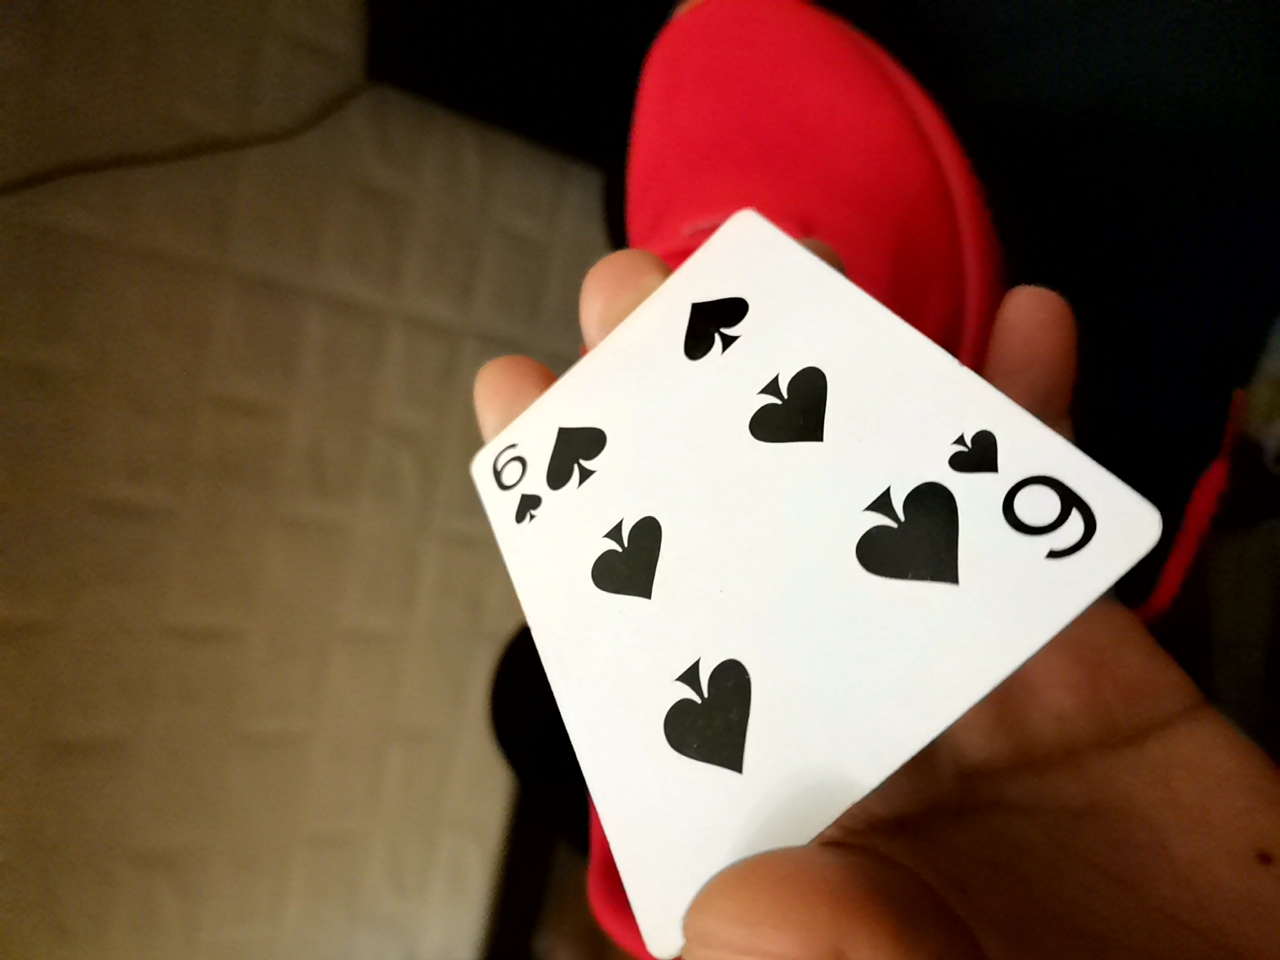ht 6: (454, 183, 1150, 940)
